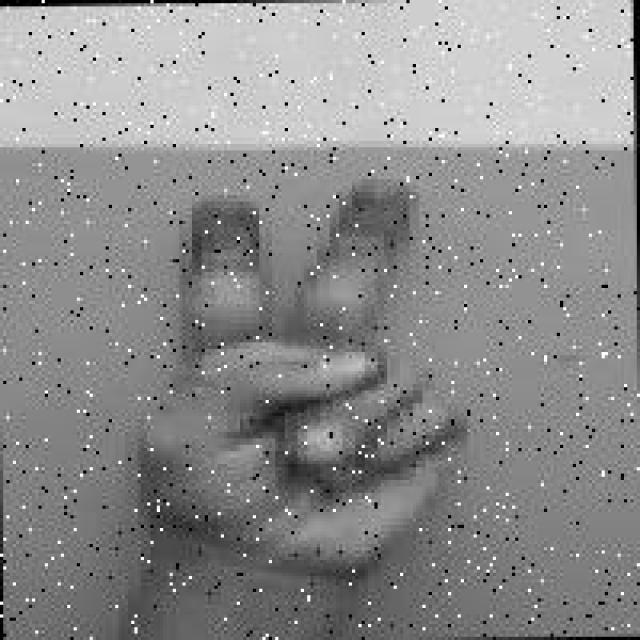V: (128, 168, 470, 574)
